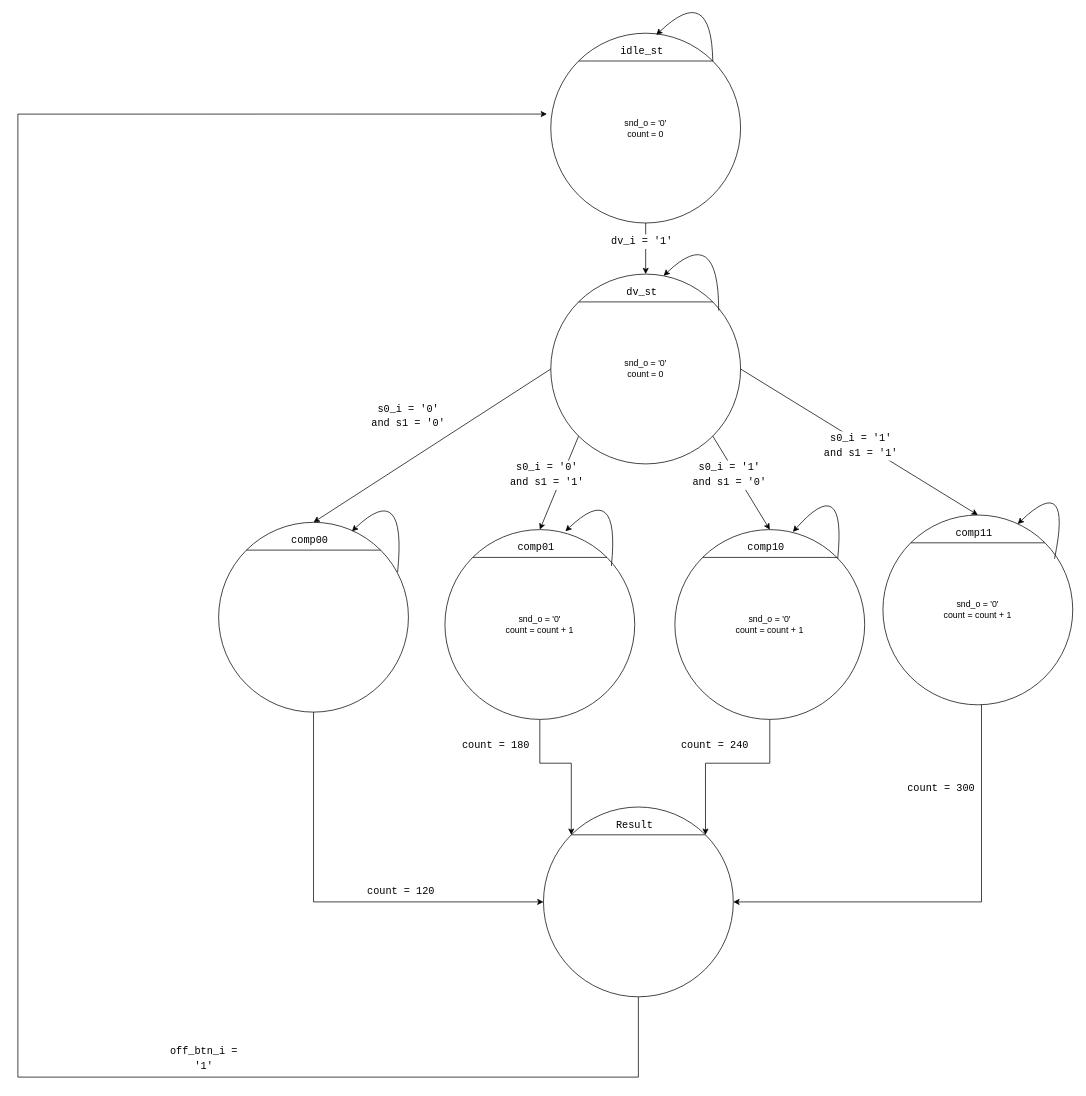
This 1086x1096 diagram has some shape labels left out. The shapes that lost their labels are listed below. From the top down, each one's box as (x1, y1, x2, y2) in pixels, then its label:
(218, 522, 408, 712): snd_o = '0' count = count +1
(543, 806, 733, 997): snd_o = sig_1k_i count = 0
